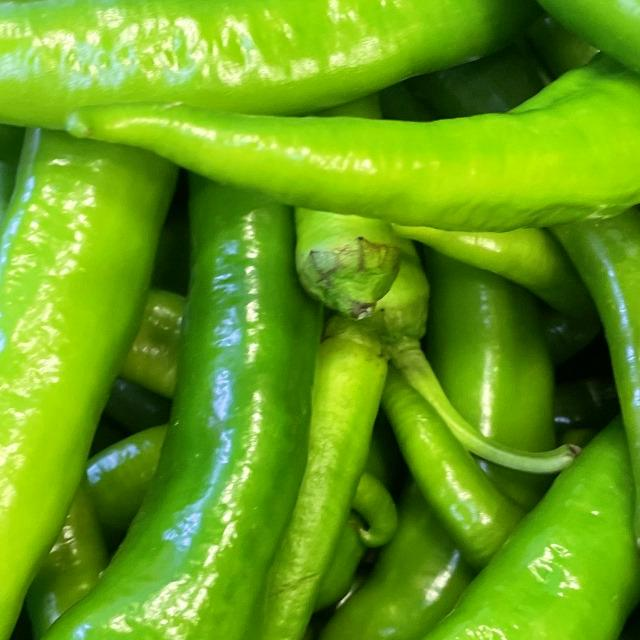chili_pepper: (0, 177, 330, 640), (0, 0, 590, 147)
